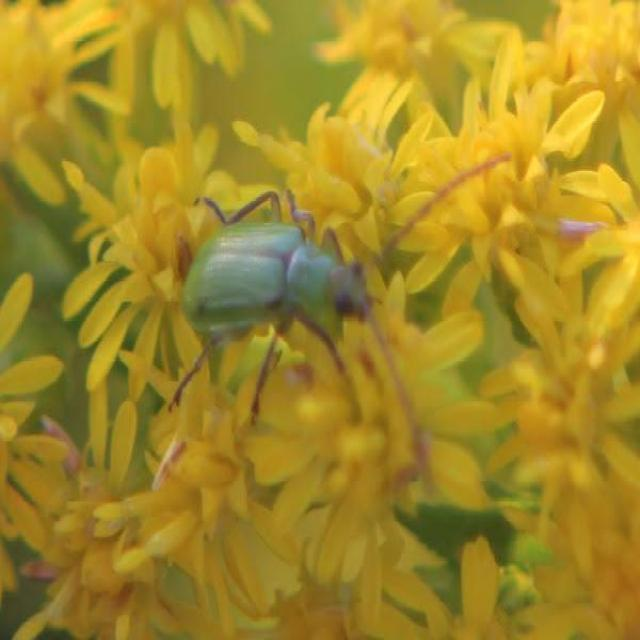gusano_gris: (168, 150, 511, 430)
